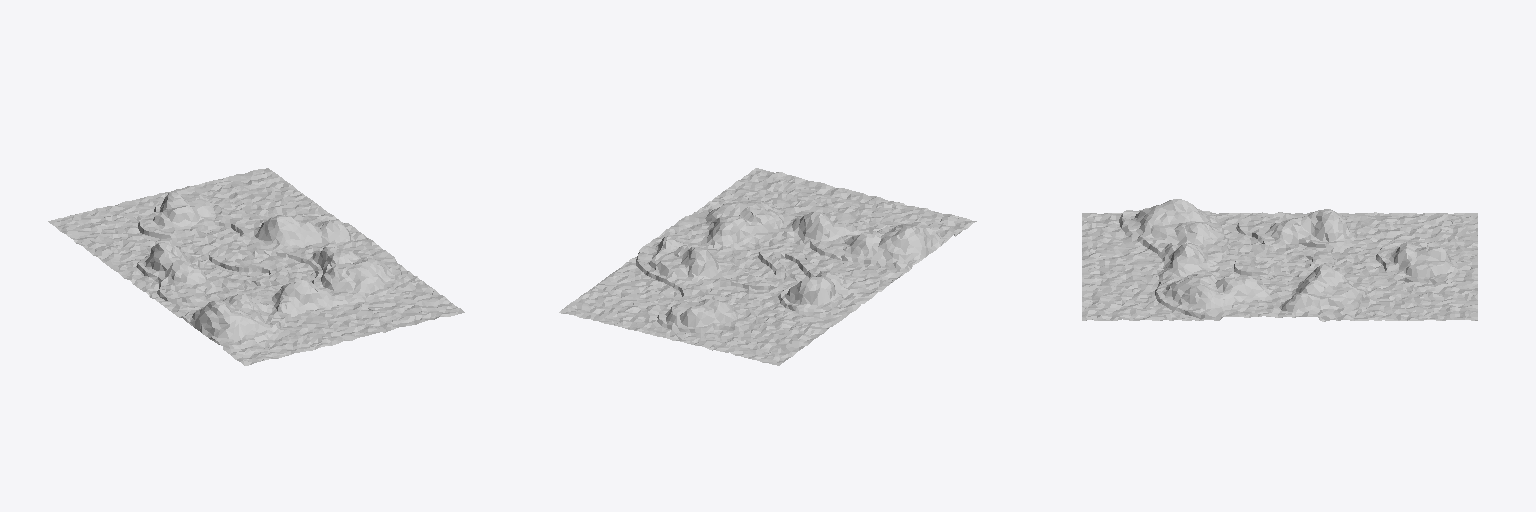
File: Terrain_lowpoly.obj
The picture shows the model from 3 angles: view 1: azimuth 30°, elevation 25°; view 2: azimuth 150°, elevation 25°; view 3: azimuth 270°, elevation 25°; orthographic projection.
Visible parts, largest first — view 1: Terrain.001; view 2: Terrain.001; view 3: Terrain.001.
Boxes of the visible parts, box(x1,y1,x2,y2) form: Terrain.001: box(48, 168, 464, 365); Terrain.001: box(559, 168, 976, 365); Terrain.001: box(1082, 199, 1477, 321).
Bounding box in the file's own units: 36.16 × 3.93 × 56.03.